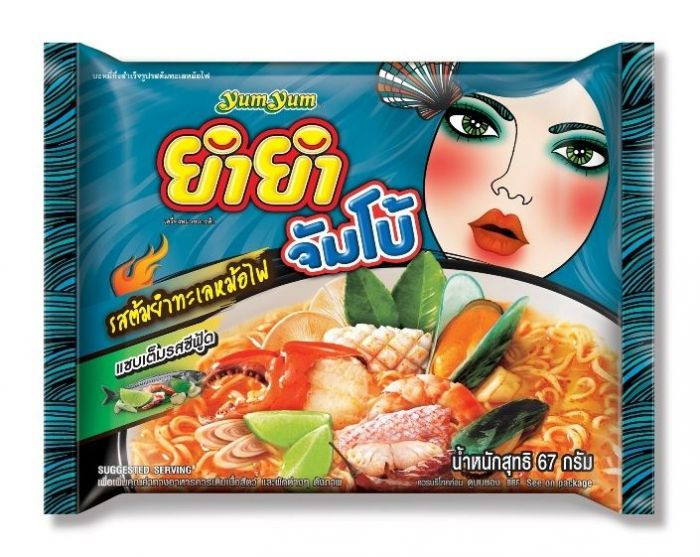Snack: (27, 37, 667, 524)
